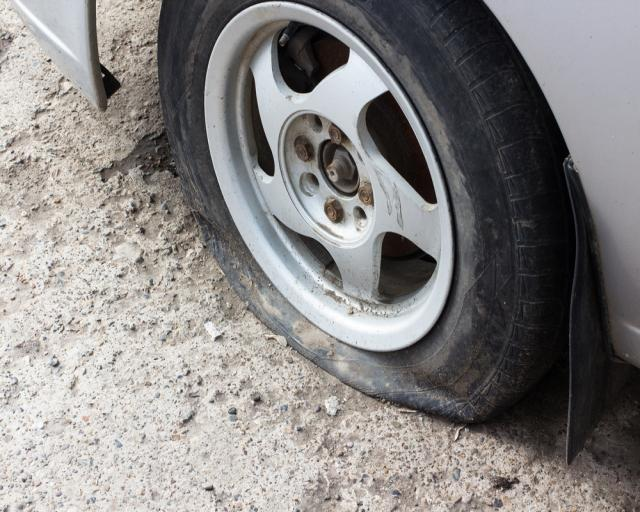tire flat: (156, 0, 559, 424)
